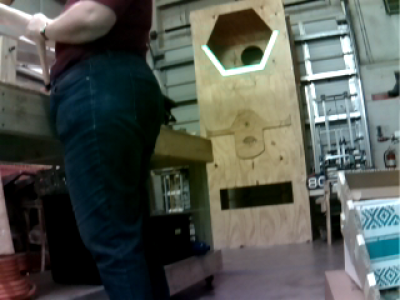target: (201, 29, 280, 76)
